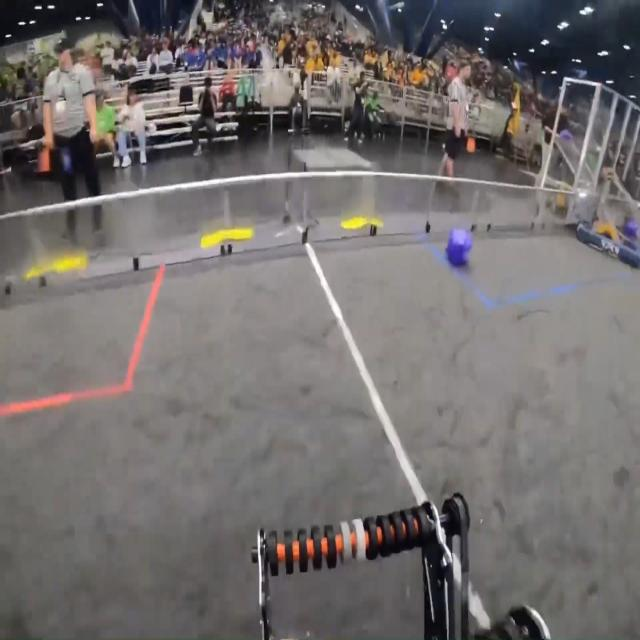robot: (577, 169, 640, 268)
